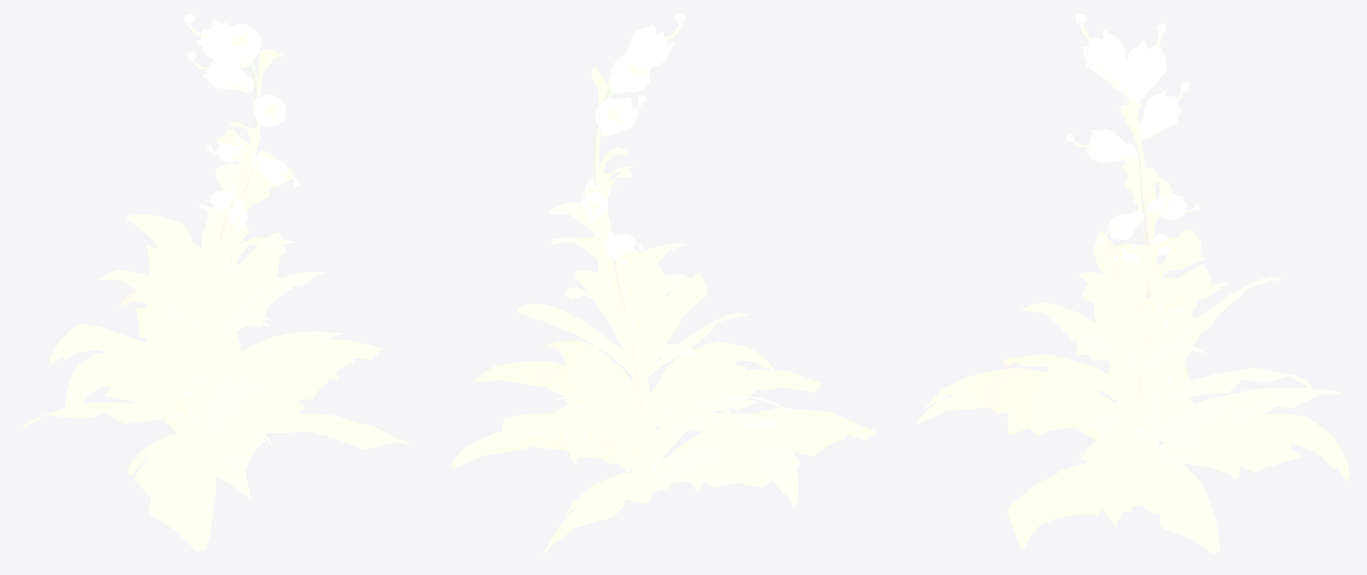
3 renders of one model, left to right at view 1: azimuth 30°, elevation 25°; view 2: azimuth 150°, elevation 25°; view 3: azimuth 270°, elevation 25°, orthographic. The views are drawn at different scales.
Visible parts, largest first — view 1: SM_DR_Fox_Glove_01_LOD0; view 2: SM_DR_Fox_Glove_01_LOD0; view 3: SM_DR_Fox_Glove_01_LOD0.
Part boxes in pixels (left/top/right/bottom): SM_DR_Fox_Glove_01_LOD0: left=18, top=14, right=410, bottom=550; SM_DR_Fox_Glove_01_LOD0: left=451, top=14, right=876, bottom=555; SM_DR_Fox_Glove_01_LOD0: left=917, top=14, right=1349, bottom=553.
Size of the model in its own units: 0.4381 by 0.536 by 0.4591.
Materials: 1 (1 with a texture image).
